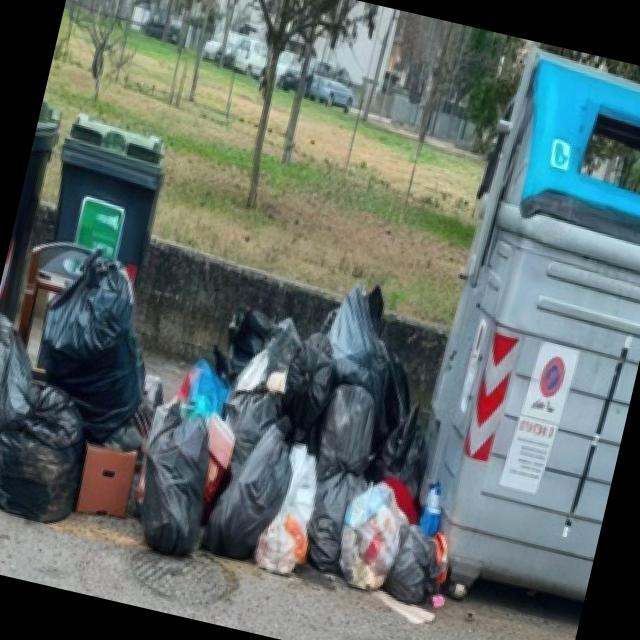high trash: (0, 254, 447, 623)
